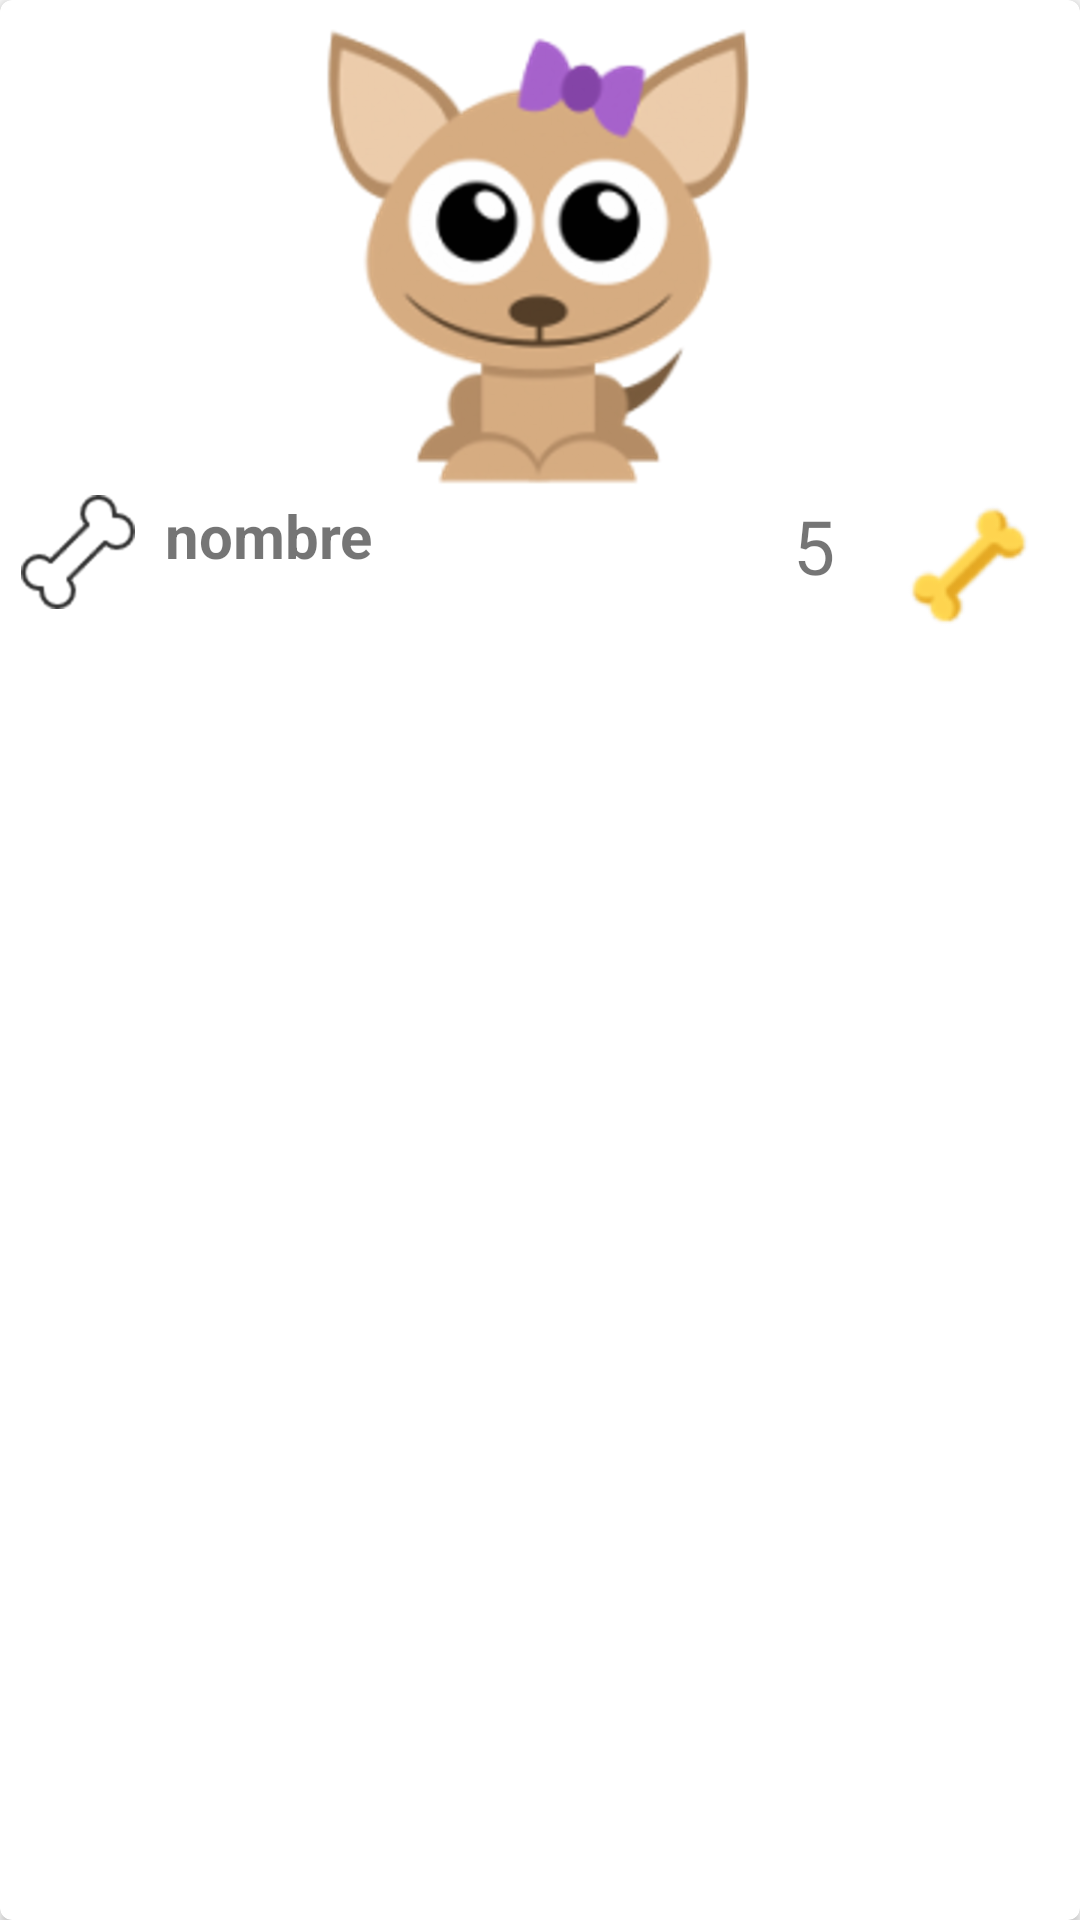

Named icons in this screenshot (1080 × 1920) and their centers, point (x, y):
dog bone: point (78, 552), point (969, 565)
